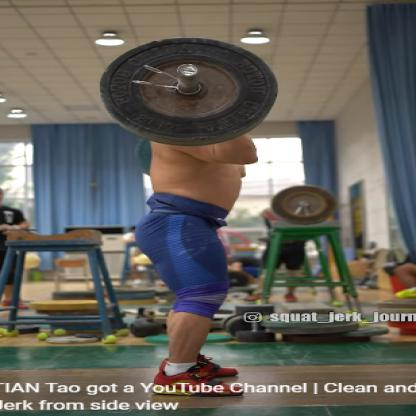Barbell: (92, 32, 286, 148)
